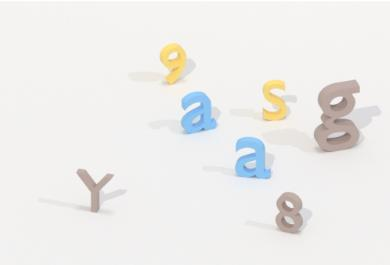8: (274, 189, 307, 240)
9: (155, 39, 190, 92)
S: (258, 74, 292, 127)
Y: (73, 164, 120, 219)
a: (176, 89, 222, 142), (232, 132, 276, 184)
g: (307, 72, 365, 156)
